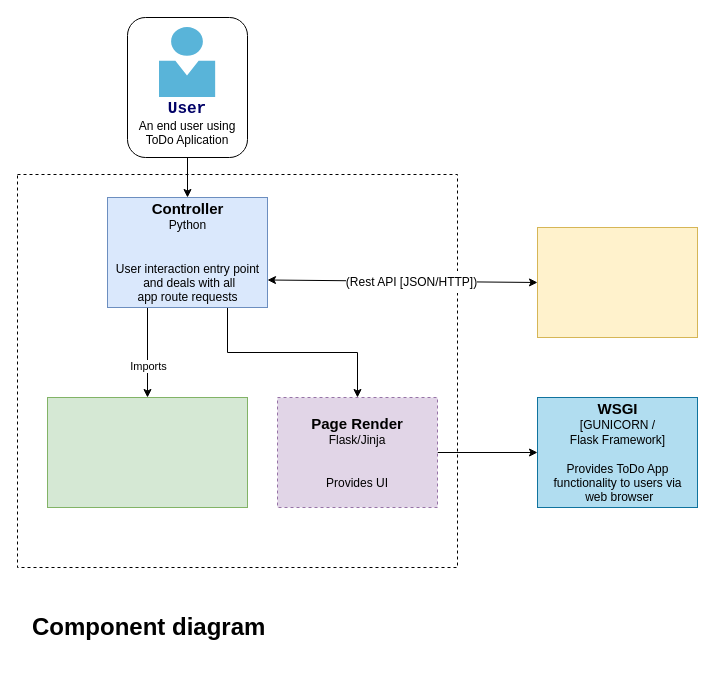
Some shapes in this 715 by 675 pixel diagram are drawn without their labels. The centre of each missing label's shape, as x and y in pixels:
"Environment Variables Python Contains Trello Keys" goes at (147,452).
"Trello External Cloud (3rd Party system hosting the data)" goes at (617,282).
